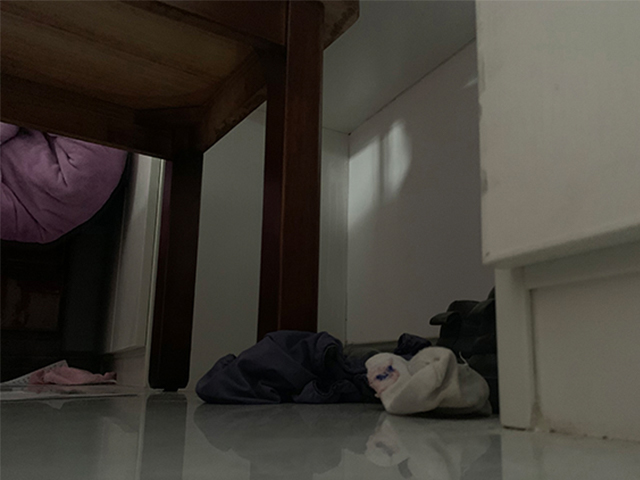socks: (365, 343, 494, 418)
stool: (1, 1, 358, 393)
